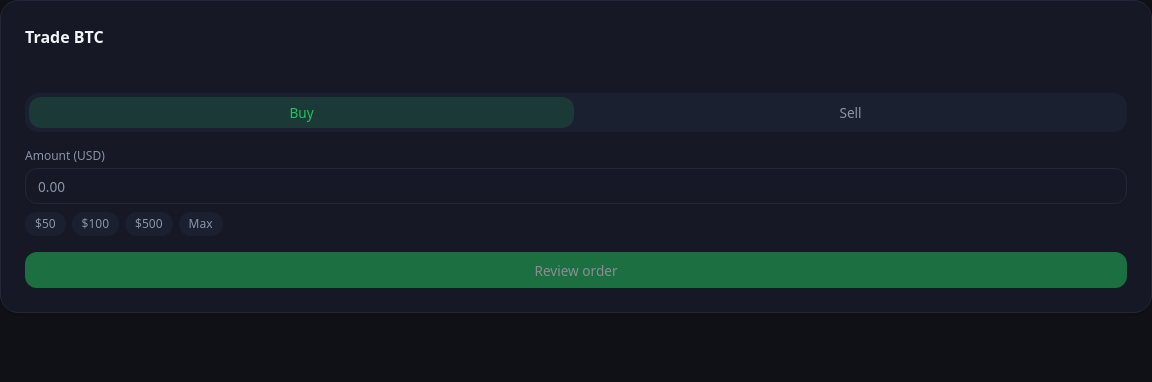
Test: OrderTicket › shows estimated units for the entered amount
Type "250" into the field labelled "Amount (USD)" at (576, 186), box [25, 168, 1127, 204]
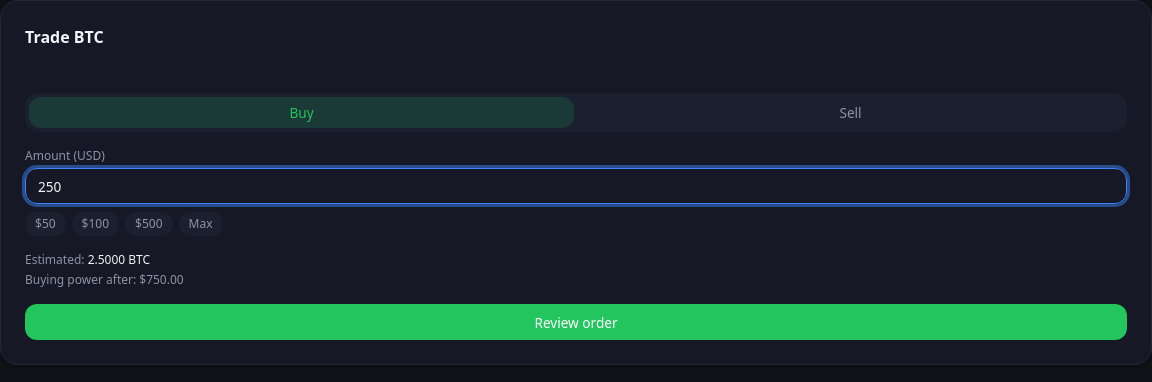
Expected: the text "2.5000 BTC" is shown, [88, 251, 150, 268]
